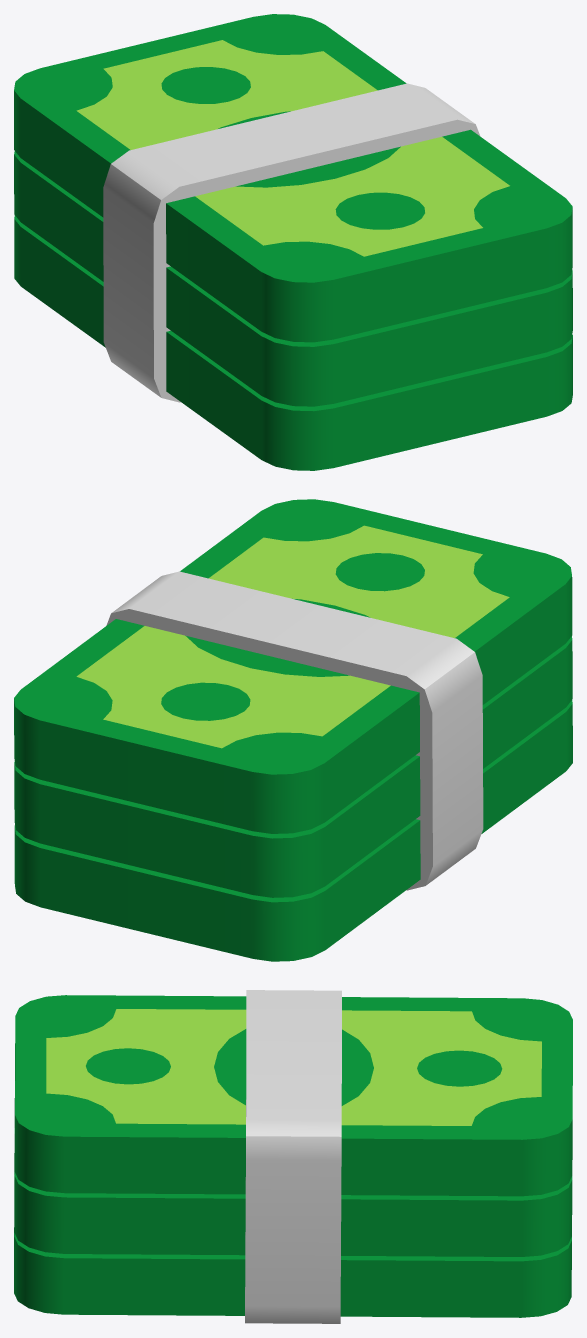
File: cash.fbx
3 views of the same model, one above another, from view 1: azimuth 30°, elevation 25°; view 2: azimuth 150°, elevation 25°; view 3: azimuth 270°, elevation 25° (orthographic). The views are drawn at different scales.
Visible parts, largest first — view 1: cash; view 2: cash; view 3: cash.
Part boxes in pixels (x1,y1,x2,y2): cash: (14, 14, 572, 470); cash: (14, 499, 572, 961); cash: (14, 990, 572, 1323).
Bounding box in the file's own units: 21.98 × 13.79 × 34.02.
